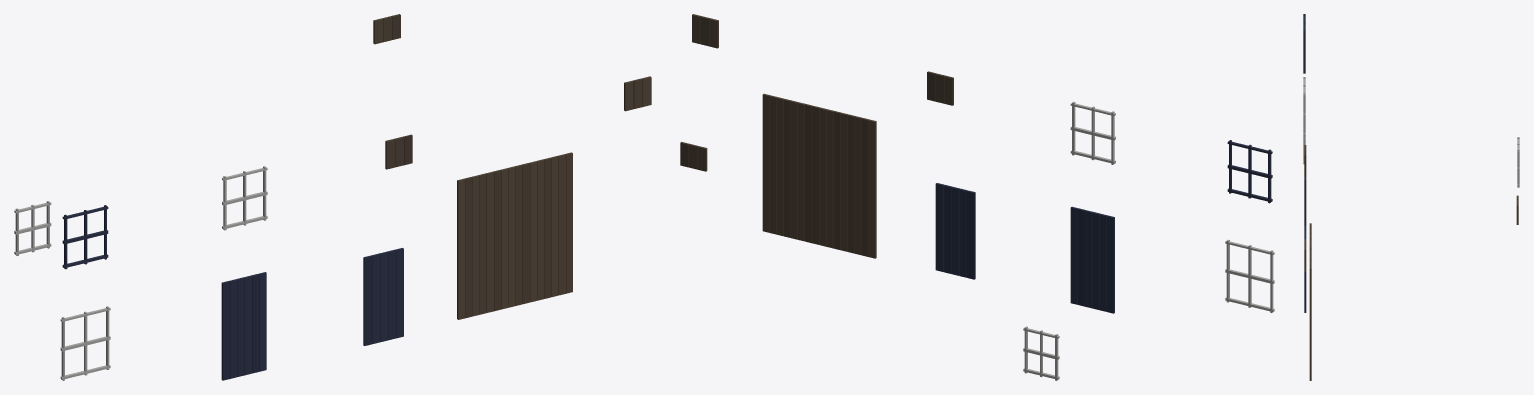
File: SM_Bld_181_Wood.glb
3 views of the same model, side by side, from view 1: azimuth 30°, elevation 25°; view 2: azimuth 150°, elevation 25°; view 3: azimuth 270°, elevation 25° (orthographic). The views are drawn at different scales.
Visible parts, largest first — view 1: SM_Bld_181_Wood; view 2: SM_Bld_181_Wood; view 3: SM_Bld_181_Wood.
Boxes of the visible parts, x1,y1,x2,y2 form: SM_Bld_181_Wood: [14, 14, 651, 380]; SM_Bld_181_Wood: [680, 14, 1274, 380]; SM_Bld_181_Wood: [1303, 14, 1519, 380].
Bounding box in the file's own units: 13.35 × 4.4 × 5.24.
